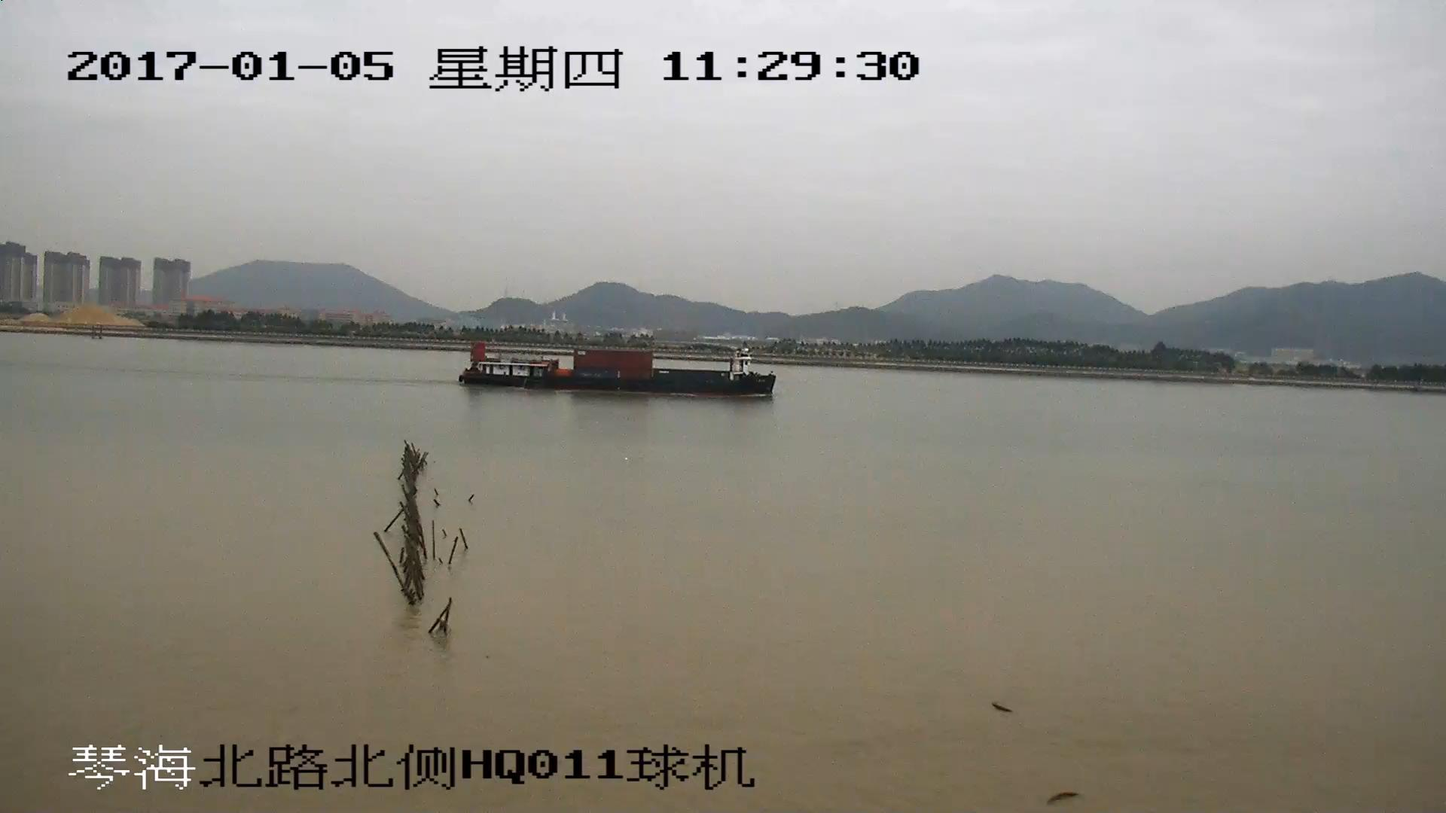container ship: (457, 342, 777, 399)
